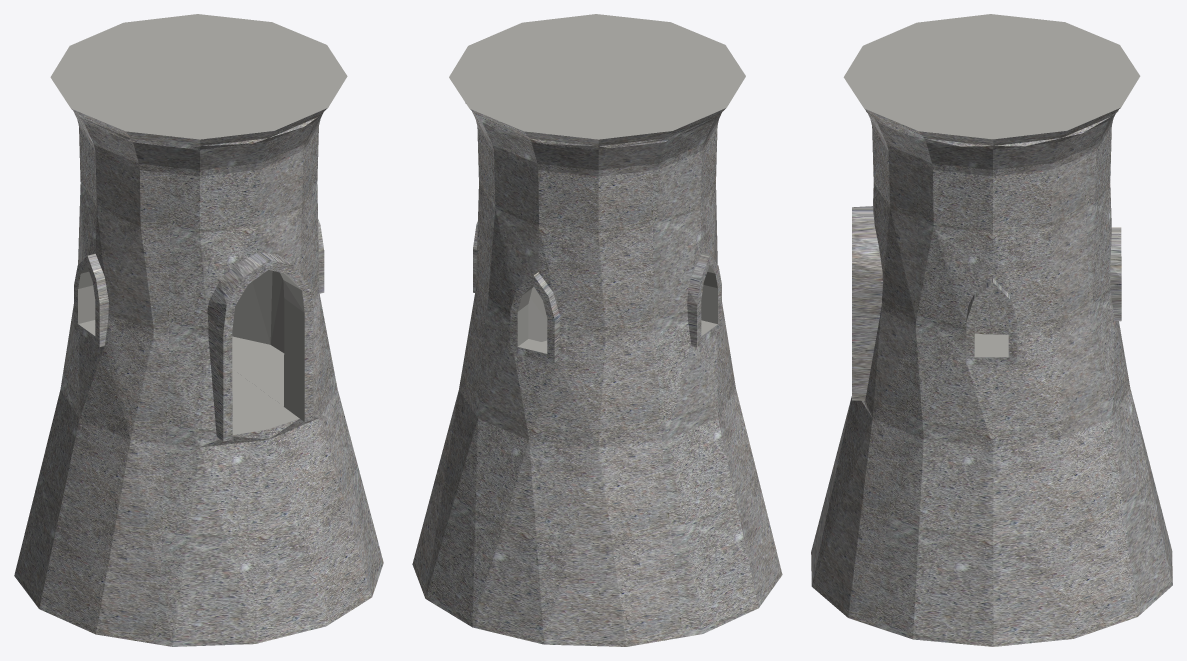
The model's file is windmill-walls.obj.
The picture shows the model from 3 angles, left to right: view 1: azimuth 30°, elevation 25°; view 2: azimuth 150°, elevation 25°; view 3: azimuth 270°, elevation 25°; orthographic projection.
Parts seen in each view (by area): view 1: windmill_walls_obj.lwo; view 2: windmill_walls_obj.lwo; view 3: windmill_walls_obj.lwo.
Part boxes in pixels (x1,y1,x2,y2): windmill_walls_obj.lwo: [14, 14, 383, 646]; windmill_walls_obj.lwo: [412, 14, 782, 646]; windmill_walls_obj.lwo: [811, 14, 1172, 646].
Bounding box in the file's own units: 7.58 × 11.11 × 7.41.
